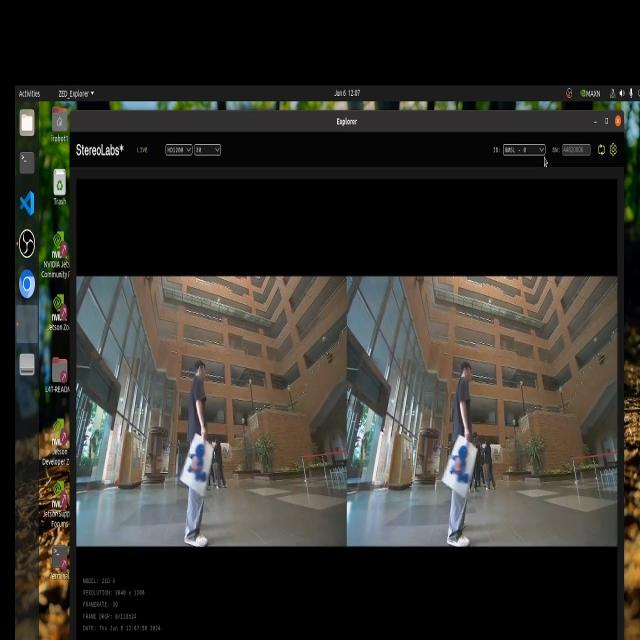blue: (449, 433, 468, 484), (187, 439, 207, 485)
